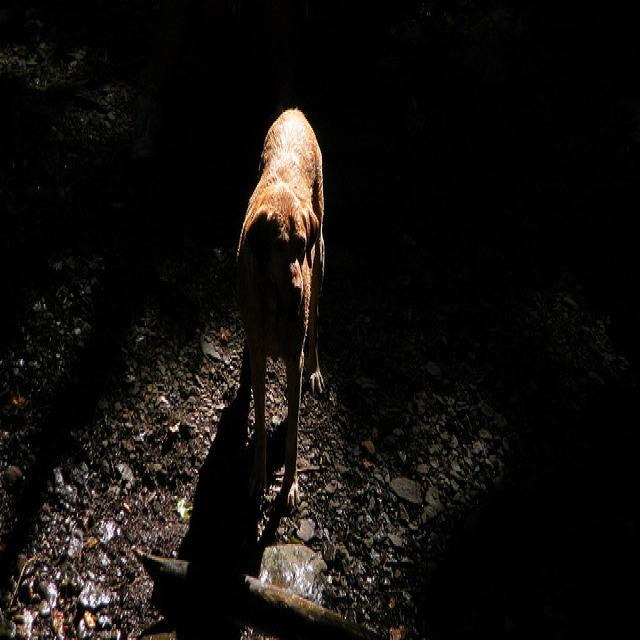Dog: (228, 67, 346, 538)
